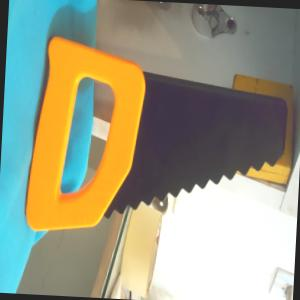serrote: (23, 33, 290, 241)
